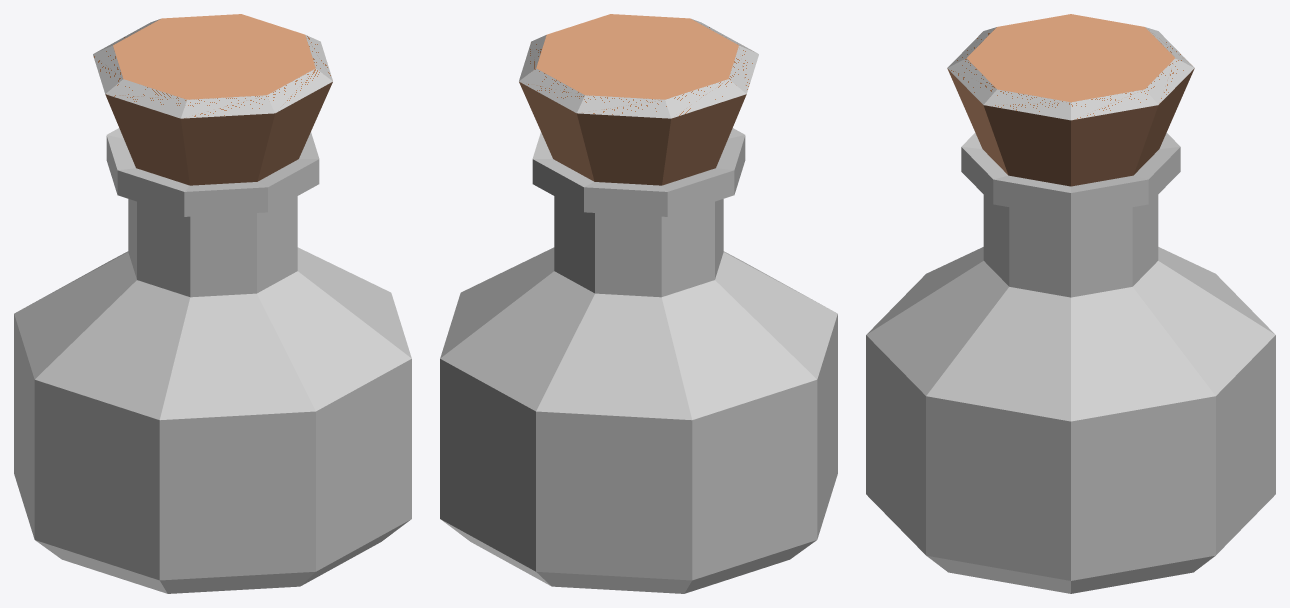
File: potion.fbx
3 renders of one model, left to right at view 1: azimuth 30°, elevation 25°; view 2: azimuth 150°, elevation 25°; view 3: azimuth 270°, elevation 25°, orthographic.
Visible parts, largest first — view 1: Cone; view 2: Cone; view 3: Cone.
Part boxes in pixels (x1,y1,x2,y2): Cone: (14,14,411,593); Cone: (440,14,837,593); Cone: (866,14,1275,593).
Bounding box in the file's own units: 80 × 99.79 × 80.
